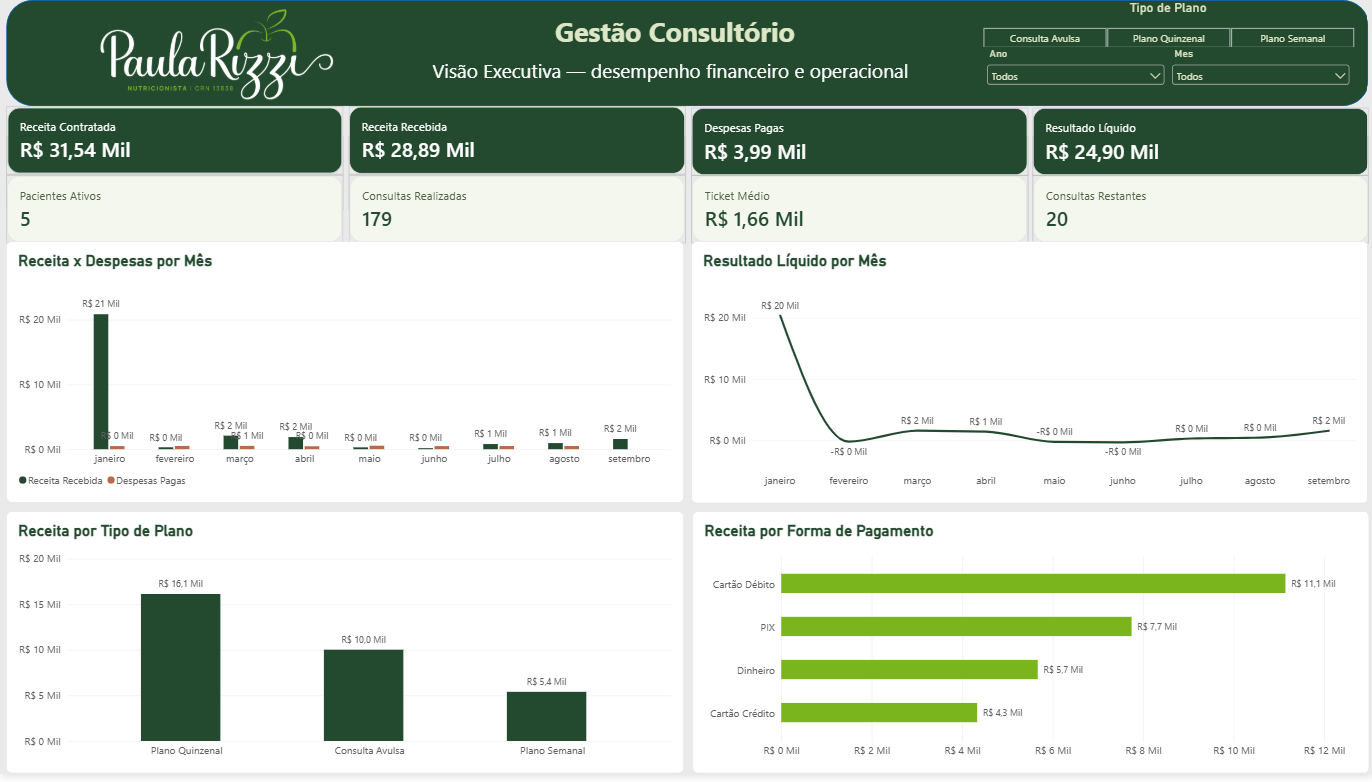

The dashboard page shown, as its layout file describes it:
{"tool":"powerbi","page":{"name":"Visão Executiva","canvas":[1920,1080],"ordinal":0},"visuals":[{"type":"shape","box":[9.4,0,1901.9,148.1],"z":0},{"type":"cardVisual","fields":{"Data":["Medidas.Receita Contratada"]},"box":[8.7,149,470,95],"z":1000},{"type":"image","box":[88.9,1.6,427.1,148.1],"z":2000},{"type":"cardVisual","fields":{"Data":["Medidas.Receita Recebida"]},"box":[486.3,149,470,95],"z":3000},{"type":"textbox","box":[774.8,18.7,347.9,51.5],"z":4000},{"type":"cardVisual","fields":{"Data":["Medidas.Despesas Pagas"]},"box":[963.8,149.4,470,95],"z":5000},{"type":"textbox","box":[603.3,81.1,691.6,43.2],"z":6000},{"type":"cardVisual","fields":{"Data":["Medidas.Resultado Líquido"]},"box":[1441.3,149.4,470,95],"z":7000},{"type":"cardVisual","fields":{"Data":["Medidas.Pacientes Ativos"]},"box":[8.7,243.4,470,95],"z":8000},{"type":"cardVisual","fields":{"Data":["Medidas.Consultas Realizadas"]},"box":[486.3,243.4,470,95],"z":9000},{"type":"cardVisual","fields":{"Data":["Medidas.Ticket Médio"]},"box":[963.8,243.4,470,95],"z":10000},{"type":"cardVisual","fields":{"Data":["Medidas.Consultas Restantes"]},"box":[1441.3,243.4,470,95],"z":11000},{"type":"clusteredColumnChart","title":"Receita x Despesas por Mês","fields":{"Category":["Calendario.Mes"],"Y":["Medidas.Receita Recebida","Medidas.Despesas Pagas"]},"box":[9.2,336,945.5,365],"z":12000},{"type":"lineChart","title":"Resultado Líquido por Mês","fields":{"Category":["Calendario.Mes"],"Y":["Medidas.Resultado Líquido"]},"box":[963.9,336,945,365.3],"z":13000},{"type":"clusteredColumnChart","title":"Receita por Tipo de Plano","fields":{"Category":["Planos_Contratos.Tipo_Plano"],"Y":["Medidas.Receita Contratada"]},"box":[9.2,714.2,945.5,365.3],"z":14000},{"type":"clusteredBarChart","title":"Receita por Forma de Pagamento","fields":{"Category":["Recebimentos.Forma_Pagamento"],"Y":["Medidas.Receita Recebida"]},"box":[965.7,714.2,945.5,365.3],"z":15000},{"type":"slicer","title":"Ano","fields":{"Values":["Calendario.Ano"]},"box":[1373.4,65.5,257,73.3],"z":16000},{"type":"slicer","fields":{"Values":["Calendario.Mes"]},"box":[1630.6,65.5,257,73.3],"z":17000},{"type":"slicer","title":"Tipo de Plano","fields":{"Values":["Planos_Contratos.Tipo_Plano"]},"box":[1351.6,0,556.5,65.5],"z":18000}]}

Visuals, with their boxes in screenshot pixels (x1, y1, x2, y2), scaled from the page's 1920x1080 canvas onto the 1372x782 screenshot:
shape: (7,0,1366,107)
cardVisual - Medidas.Receita Contratada: (6,108,342,177)
image: (64,1,369,108)
cardVisual - Medidas.Receita Recebida: (348,108,683,177)
textbox: (554,14,802,51)
cardVisual - Medidas.Despesas Pagas: (689,108,1025,177)
textbox: (431,59,925,90)
cardVisual - Medidas.Resultado Líquido: (1030,108,1366,177)
cardVisual - Medidas.Pacientes Ativos: (6,176,342,245)
cardVisual - Medidas.Consultas Realizadas: (348,176,683,245)
cardVisual - Medidas.Ticket Médio: (689,176,1025,245)
cardVisual - Medidas.Consultas Restantes: (1030,176,1366,245)
"Receita x Despesas por Mês" clusteredColumnChart: (7,243,682,508)
"Resultado Líquido por Mês" lineChart: (689,243,1364,508)
"Receita por Tipo de Plano" clusteredColumnChart: (7,517,682,781)
"Receita por Forma de Pagamento" clusteredBarChart: (690,517,1366,781)
"Ano" slicer: (981,47,1165,101)
slicer - Calendario.Mes: (1165,47,1349,101)
"Tipo de Plano" slicer: (966,0,1363,47)
